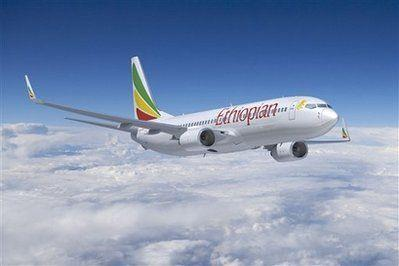airplane: (19, 48, 358, 166)
